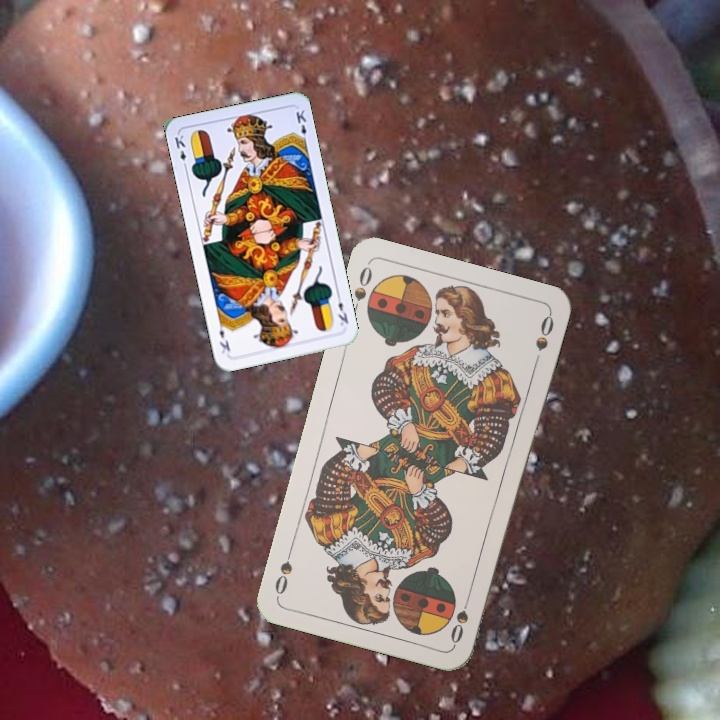EK: (170, 131, 190, 172), (333, 290, 351, 328)
SO: (446, 589, 474, 647), (348, 262, 375, 318)
